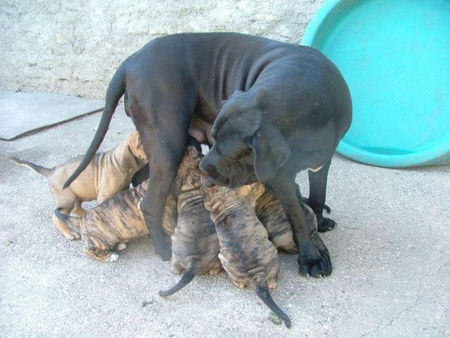fila_brasileiro: (63, 32, 353, 279), (9, 131, 148, 241), (201, 181, 291, 328), (53, 176, 178, 263), (158, 135, 220, 297), (254, 182, 330, 255)
